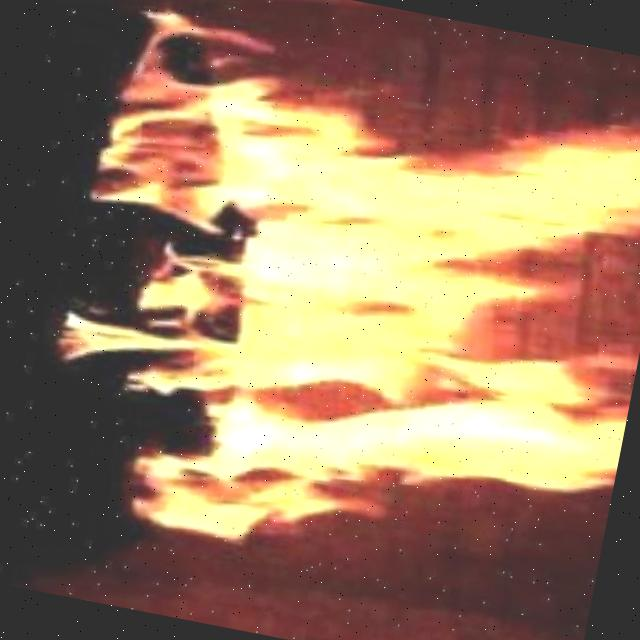fire: (97, 44, 640, 609)
